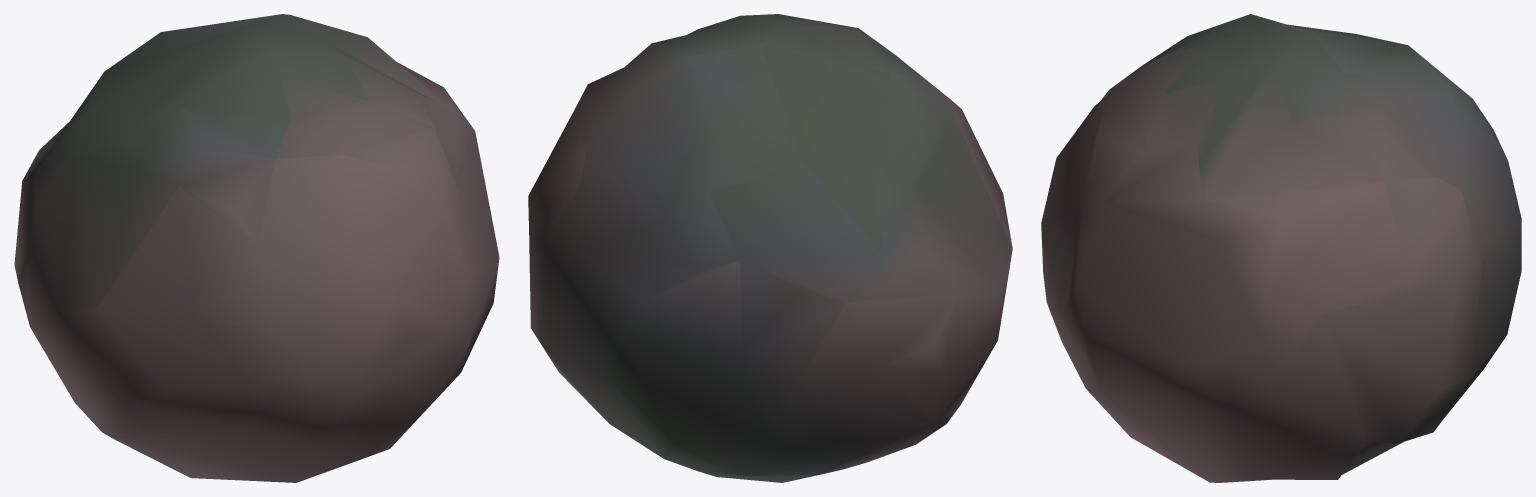
File: space-asteroids-asteroid_v22.glb
3 renders of one model, left to right at view 1: azimuth 30°, elevation 25°; view 2: azimuth 150°, elevation 25°; view 3: azimuth 270°, elevation 25°, orthographic.
Parts seen in each view (by area): view 1: Asteroid_v22; view 2: Asteroid_v22; view 3: Asteroid_v22.
Boxes of the visible parts, x1,y1,x2,y2 form: Asteroid_v22: (14,14,499,482); Asteroid_v22: (528,14,1012,482); Asteroid_v22: (1041,14,1521,482).
Bounding box in the file's own units: 500 × 480 × 485.
